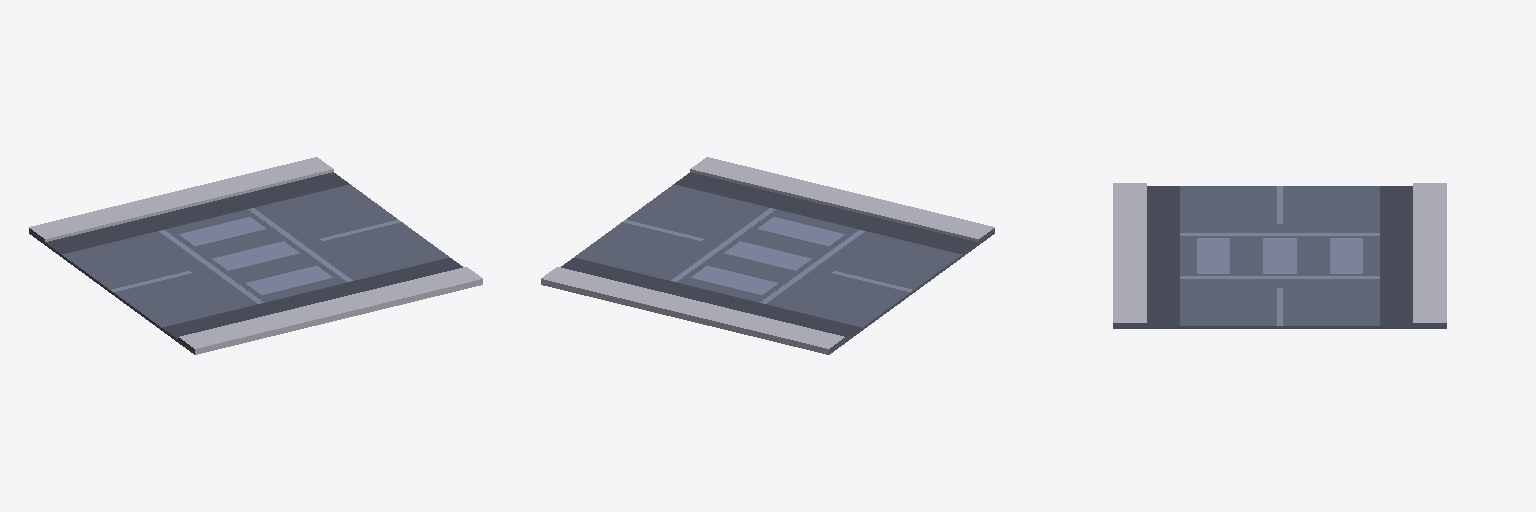
Rendered from road_crossing.obj.
The picture shows the model from 3 angles: view 1: azimuth 30°, elevation 25°; view 2: azimuth 150°, elevation 25°; view 3: azimuth 270°, elevation 25°; orthographic projection.
Parts seen in each view (by area): view 1: road_crossing; view 2: road_crossing; view 3: road_crossing.
Boxes of the visible parts, x1=… form: road_crossing: x1=29, y1=157, x2=482, y2=354; road_crossing: x1=541, y1=157, x2=994, y2=354; road_crossing: x1=1113, y1=183, x2=1446, y2=328.
Size of the model in its own units: 1 by 0.02 by 1.